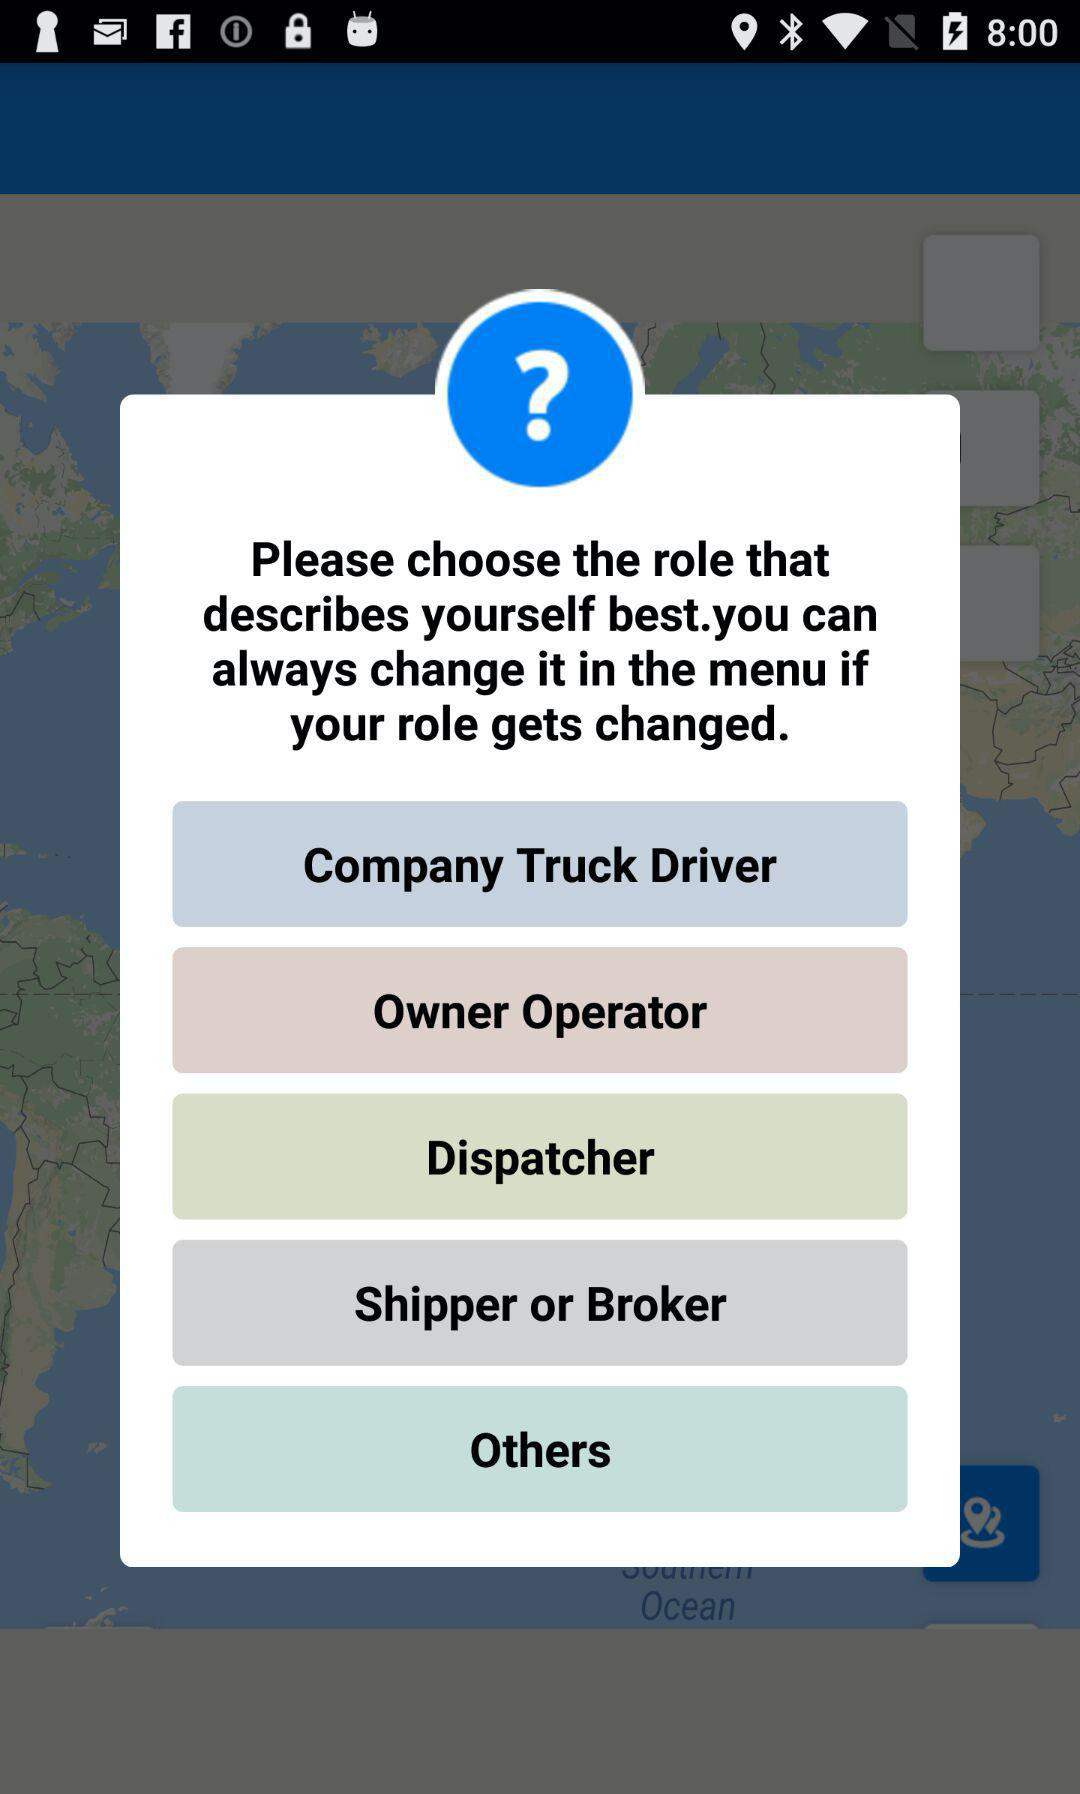Icon: (437, 290, 644, 500)
Modal: (120, 288, 960, 1568)
Text: (202, 539, 876, 751)
TextButton: (170, 801, 910, 928), (174, 947, 910, 1074), (173, 1387, 910, 1512), (173, 1094, 908, 1220), (173, 1240, 908, 1366)
UpperTaskBar: (1, 1, 1080, 64)
